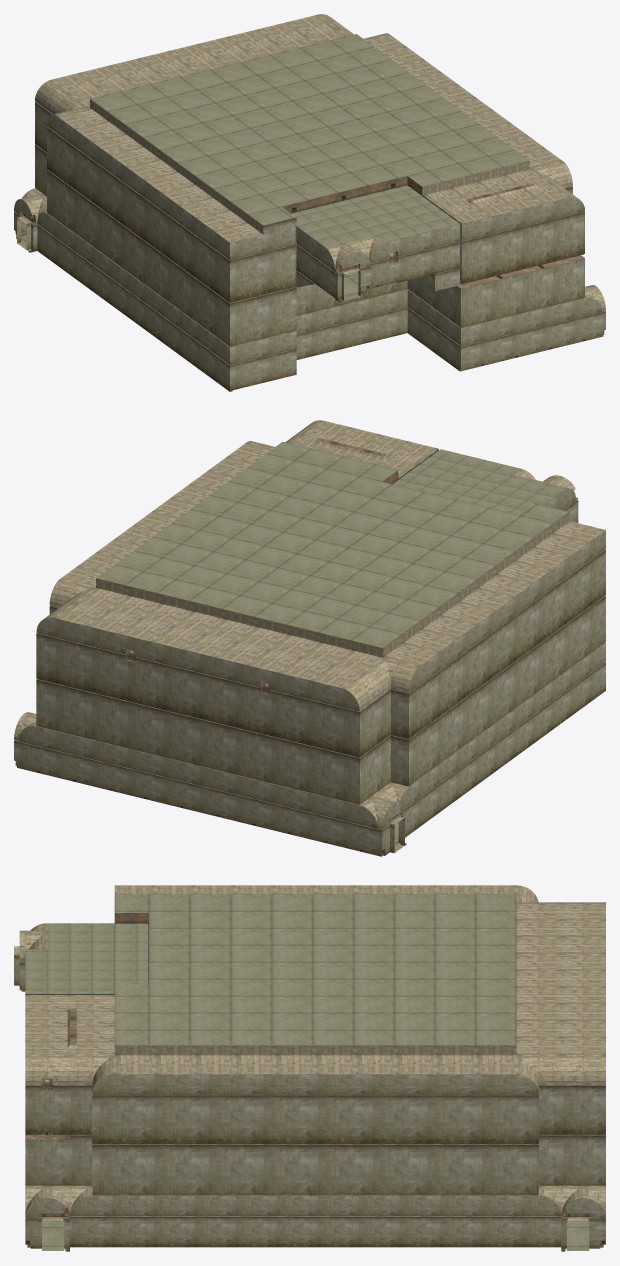
Rendered from poi_all_bunker_allum_mine_r17_observationroom17_mesh_r17.fbx.
The picture shows the model from 3 angles, top to bottom: view 1: azimuth 30°, elevation 25°; view 2: azimuth 150°, elevation 25°; view 3: azimuth 270°, elevation 25°; orthographic projection. The views are drawn at different scales.
Parts seen in each view (by area): view 1: mesh_node; view 2: mesh_node; view 3: mesh_node.
Part boxes in pixels (x1,y1,x2,y2): mesh_node: (14, 14, 605, 391); mesh_node: (14, 420, 605, 856); mesh_node: (14, 885, 605, 1251).
Bounding box in the file's own units: 42 × 18.1 × 53.
